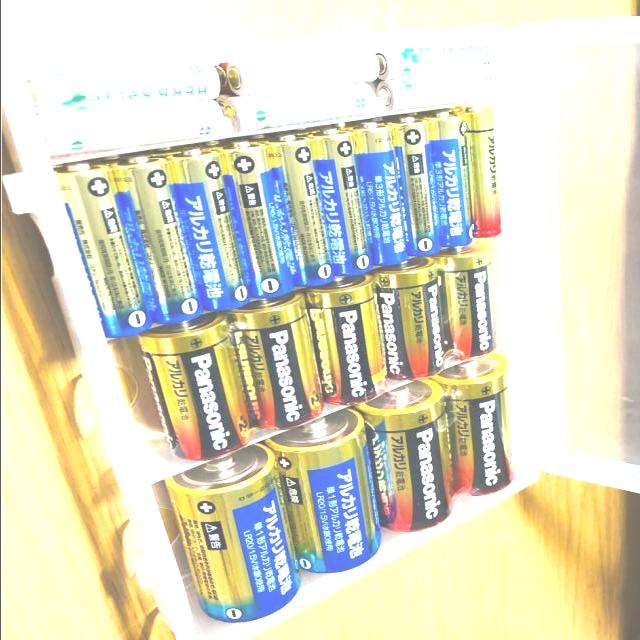AA: (54, 163, 151, 338), (111, 154, 202, 324), (167, 148, 248, 310), (216, 137, 295, 299), (306, 125, 373, 277), (278, 136, 334, 288), (351, 120, 408, 266), (388, 114, 440, 257), (425, 109, 473, 248), (460, 105, 501, 239)
AAA: (34, 98, 225, 159), (22, 67, 221, 118), (223, 85, 376, 134), (223, 50, 379, 95), (374, 72, 502, 114), (374, 38, 496, 81)
